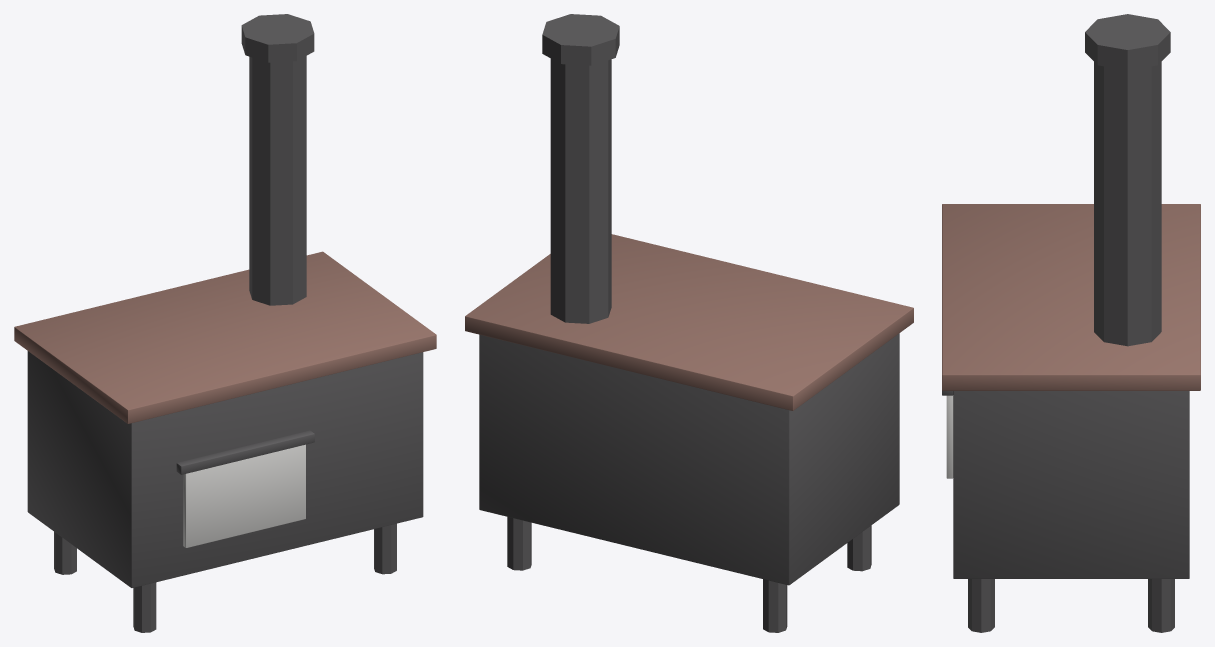
File: perk_iron_gut.gltf
The picture shows the model from 3 angles, left to right: view 1: azimuth 30°, elevation 25°; view 2: azimuth 150°, elevation 25°; view 3: azimuth 270°, elevation 25°; orthographic projection. The views are drawn at different scales.
Visible parts, largest first — view 1: Body, Glow; view 2: Body; view 3: Body, Glow.
Boxes of the visible parts, left/top/right/bottom form: Body: left=14, top=14, right=436, bottom=632; Glow: left=183, top=444, right=305, bottom=547; Body: left=465, top=14, right=913, bottom=632; Body: left=942, top=14, right=1200, bottom=632; Glow: left=946, top=395, right=953, bottom=478.
Size of the model in its own units: 1.8 by 2.8 by 1.15.
